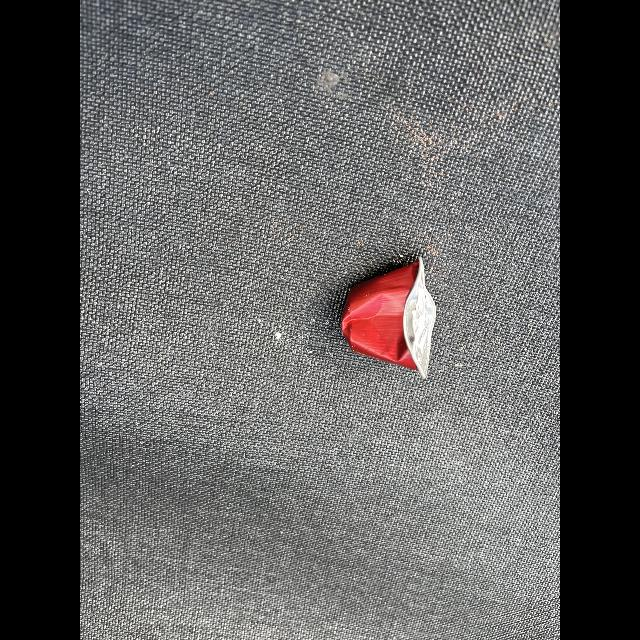damaged_capsule: (330, 238, 450, 407)
